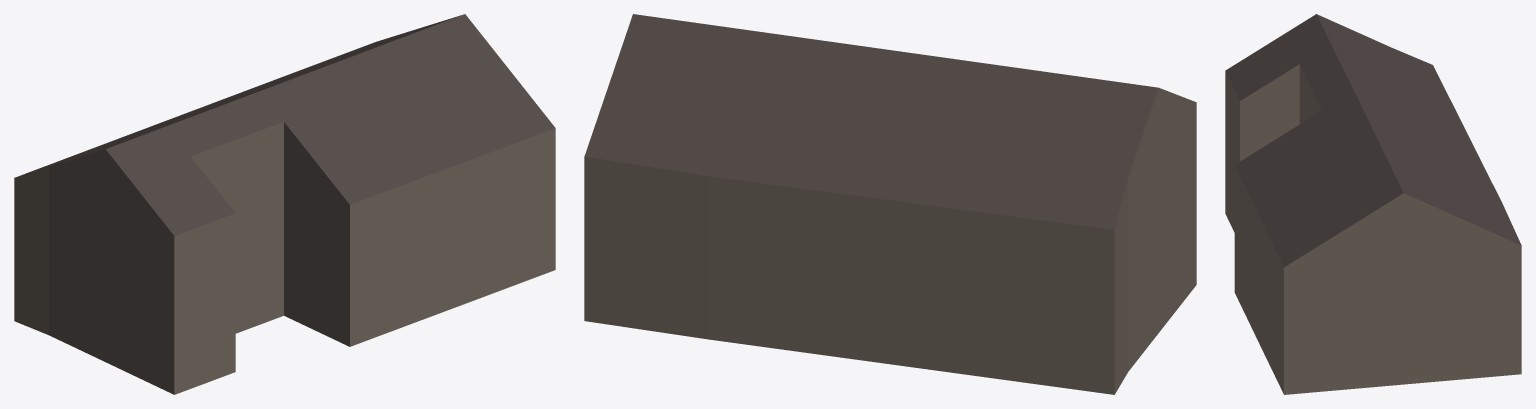
3 renders of one model, left to right at view 1: azimuth 30°, elevation 25°; view 2: azimuth 150°, elevation 25°; view 3: azimuth 270°, elevation 25°, orthographic. The views are drawn at different scales.
Parts seen in each view (by area): view 1: HP-w553893867; view 2: HP-w553893867; view 3: HP-w553893867.
Part boxes in pixels (<box>): HP-w553893867: <box>14,14,555,394</box>; HP-w553893867: <box>584,14,1196,394</box>; HP-w553893867: <box>1225,14,1521,394</box>.
Size of the model in its own units: 30.43 by 13.51 by 18.97.
